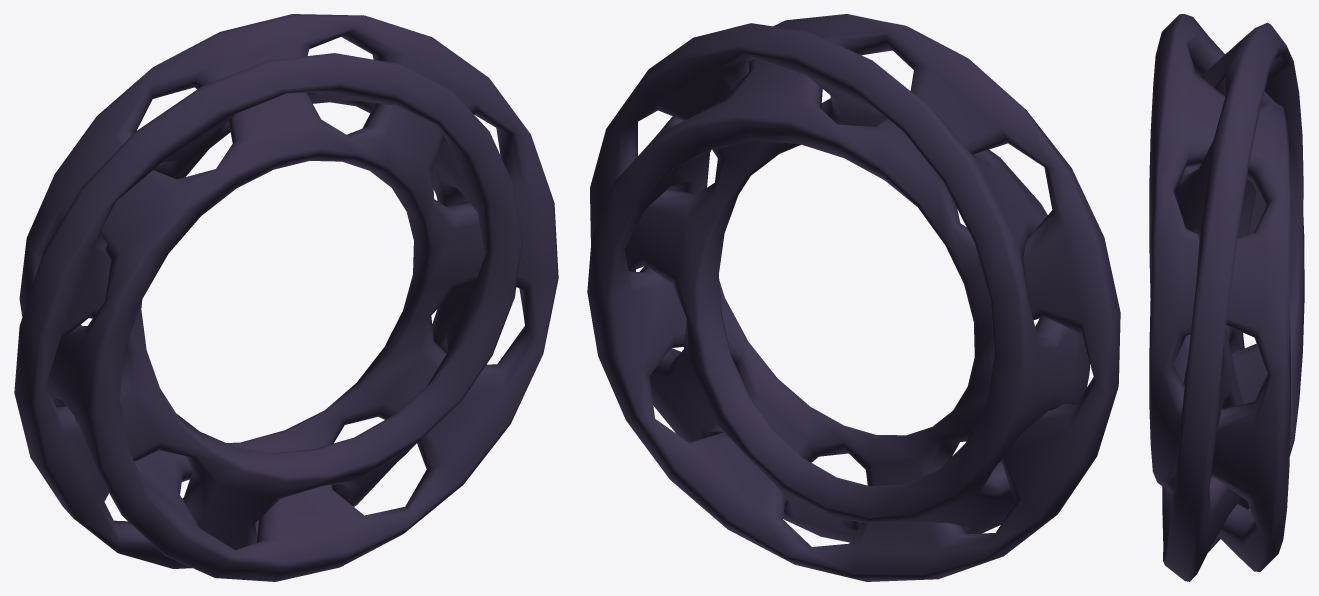
3 views of the same model, side by side, from view 1: azimuth 30°, elevation 25°; view 2: azimuth 150°, elevation 25°; view 3: azimuth 270°, elevation 25° (orthographic). The views are drawn at different scales.
Visible parts, largest first — view 1: Moebius_02; view 2: Moebius_02; view 3: Moebius_02.
Boxes of the visible parts, x1,y1,x2,y2 form: Moebius_02: (14, 14, 558, 581); Moebius_02: (587, 14, 1120, 581); Moebius_02: (1149, 14, 1304, 581).
Size of the model in its own units: 288 by 280 by 77.44.
1 material, 1 textured.
